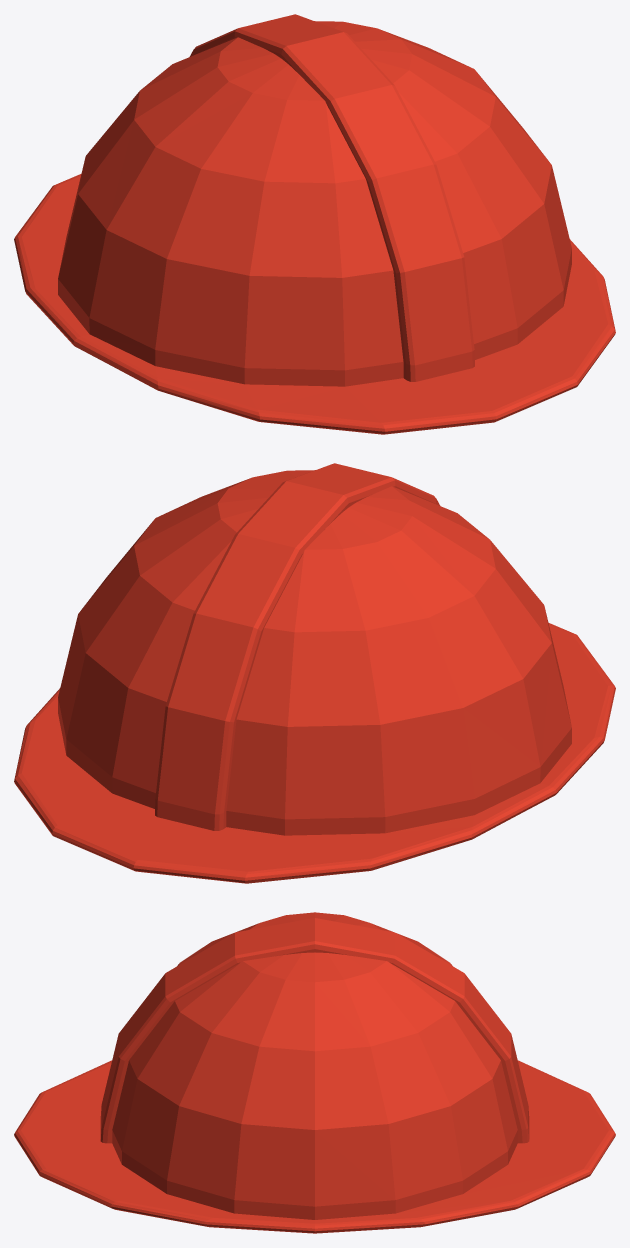
The model's file is Accessory-Helmet-FireFighter.fbx.
3 views of the same model, one above another, from view 1: azimuth 30°, elevation 25°; view 2: azimuth 150°, elevation 25°; view 3: azimuth 270°, elevation 25° (orthographic). The views are drawn at different scales.
Visible parts, largest first — view 1: Helmet; view 2: Helmet; view 3: Helmet.
Boxes of the visible parts, box(x1,y1,x2,y2) form: Helmet: box(14, 14, 615, 434); Helmet: box(14, 463, 615, 883); Helmet: box(14, 912, 615, 1233).
Size of the model in its own units: 40 by 20 by 52.
